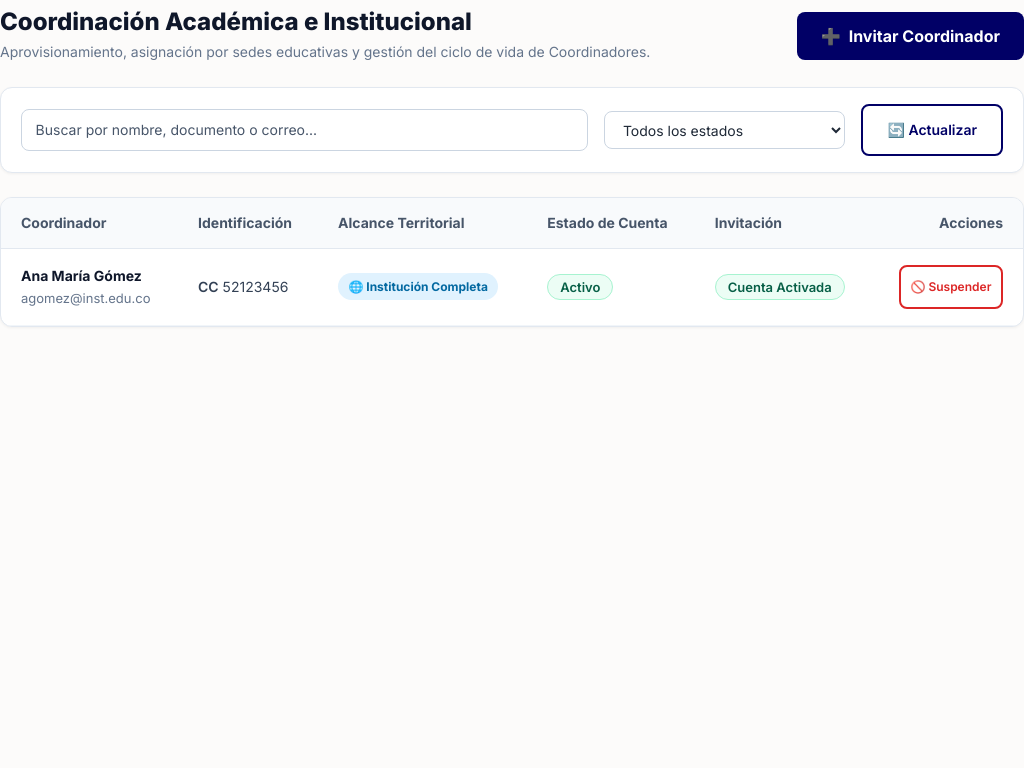
Test case: NTA-10-R9: CoordinatorsView and Invitation Lifecycle Frontend Integration › enforces exclusivity UX: disables scope choices and submit when global coordinator exists
The image size is (1024, 768).
Click the button "➕ Invitar Coordinador" at x=910, y=36, box x1=797 y1=12 x2=1023 y2=60
(page scrolled)
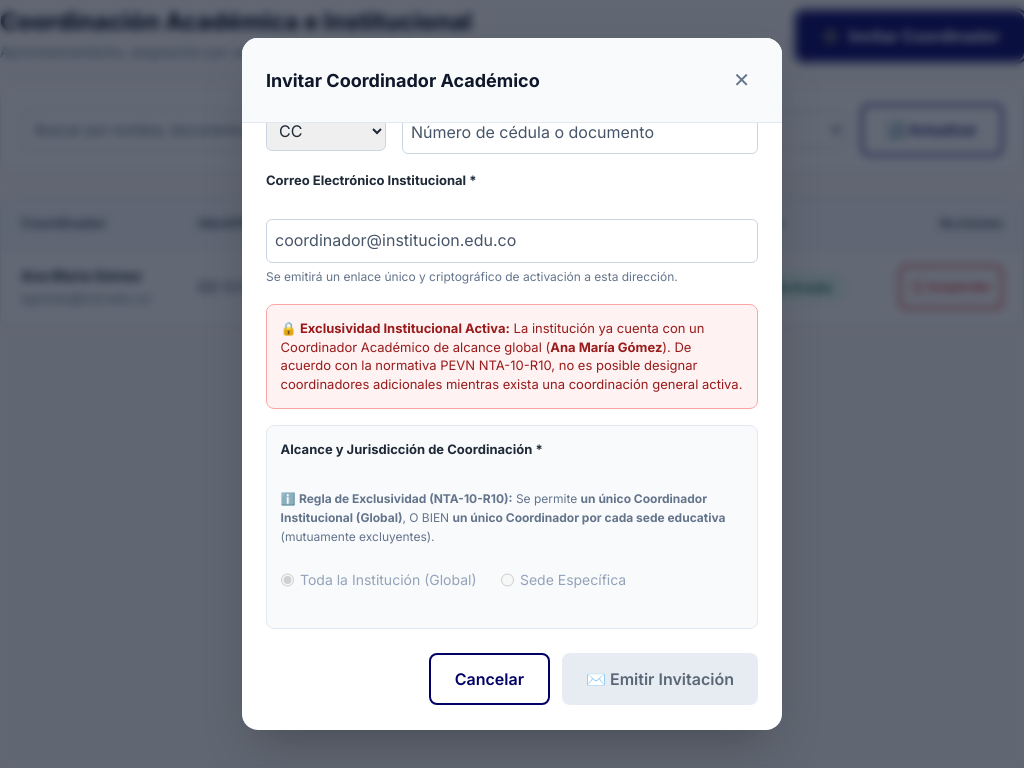
Expected: the text "🔒 Exclusividad Institucional Activa:" is shown, x1=281 y1=320 x2=510 y2=336
Expected: the radio button labelled "Toda la Institución (Global)" is disabled, x1=281 y1=558 x2=294 y2=602
Expected: the radio button labelled "Sede Específica" is disabled, x1=500 y1=558 x2=514 y2=602
